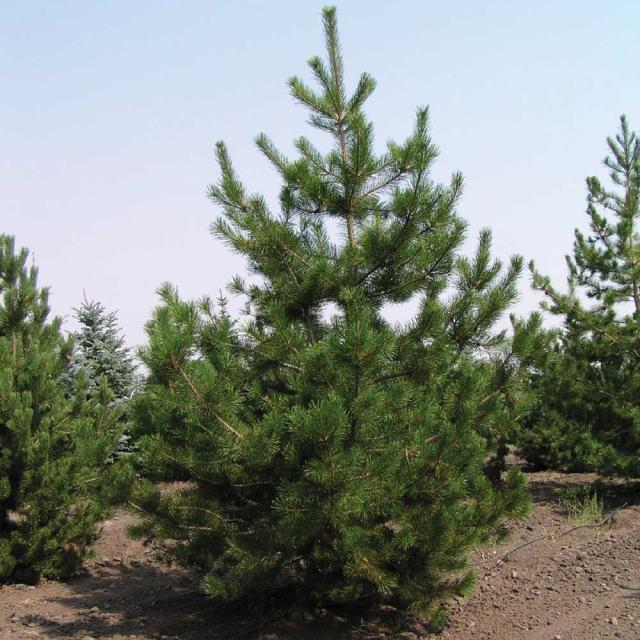Pinus contorta var: (119, 3, 556, 639)
